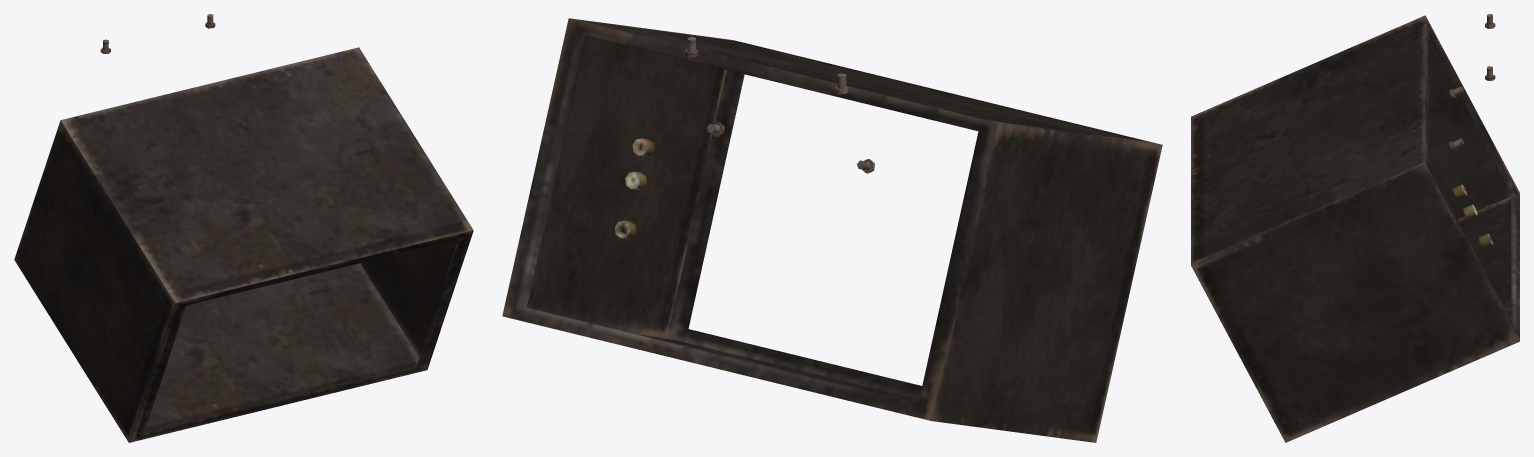
Rendered from 018_speaker01a.fbx.
3 views of the same model, side by side, from view 1: azimuth 30°, elevation 25°; view 2: azimuth 150°, elevation 25°; view 3: azimuth 270°, elevation 25° (orthographic). The views are drawn at different scales.
Parts seen in each view (by area): view 1: LOD_1_Group_0_Sub_1__sm31_018_Speaker01A_A_Mat; view 2: LOD_1_Group_0_Sub_1__sm31_018_Speaker01A_A_Mat, LOD_1_Group_1_Sub_1__sm31_018_Speaker01A_A_Mat; view 3: LOD_1_Group_0_Sub_1__sm31_018_Speaker01A_A_Mat, LOD_1_Group_1_Sub_1__sm31_018_Speaker01A_A_Mat.
Boxes of the visible parts, x1,y1,x2,y2 form: LOD_1_Group_0_Sub_1__sm31_018_Speaker01A_A_Mat: (14,47,473,442); LOD_1_Group_0_Sub_1__sm31_018_Speaker01A_A_Mat: (502,18,1162,442); LOD_1_Group_1_Sub_1__sm31_018_Speaker01A_A_Mat: (684,36,874,173); LOD_1_Group_0_Sub_1__sm31_018_Speaker01A_A_Mat: (1191,15,1519,442); LOD_1_Group_1_Sub_1__sm31_018_Speaker01A_A_Mat: (1449,14,1495,150).
Size of the model in its own units: 0.4883 by 0.4847 by 0.4559.
